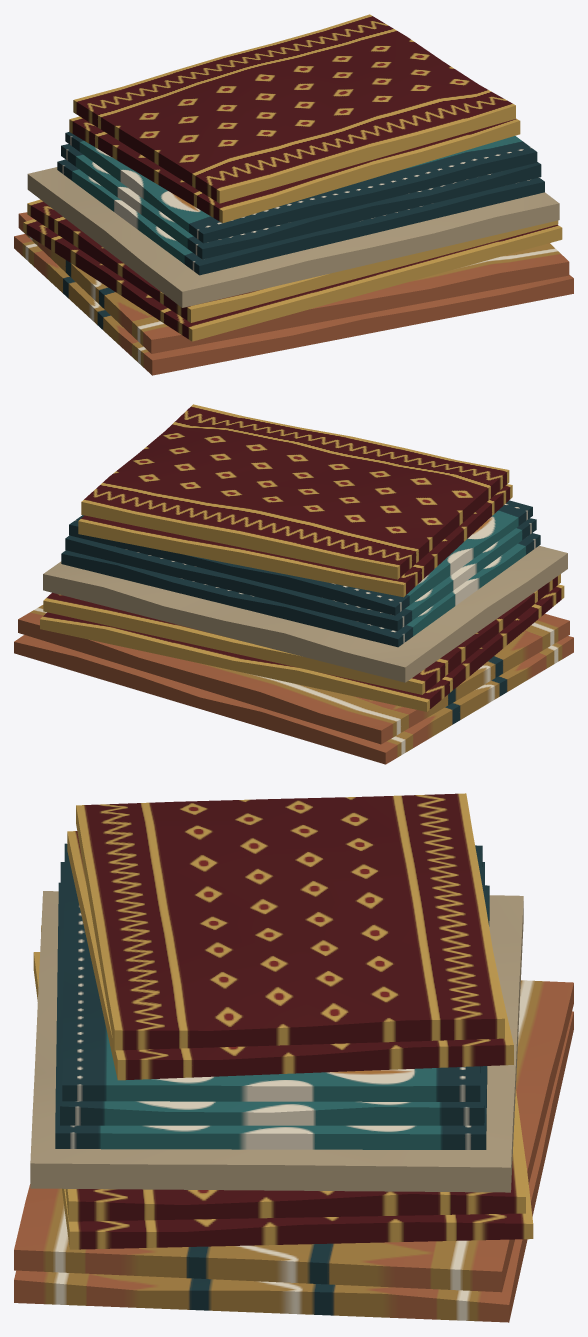
The model's file is prop-textile-stack.glb.
The picture shows the model from 3 angles, top to bottom: view 1: azimuth 30°, elevation 25°; view 2: azimuth 150°, elevation 25°; view 3: azimuth 270°, elevation 25°; orthographic projection. The views are drawn at different scales.
Parts seen in each view (by area): view 1: piece_TextileRed, piece_TextileTeal, piece_TextileOchre, piece_Linen; view 2: piece_TextileRed, piece_TextileOchre, piece_TextileTeal, piece_Linen; view 3: piece_TextileRed, piece_TextileOchre, piece_TextileTeal, piece_Linen.
Boxes of the visible parts, <box> form: piece_TextileRed: <box>23,14,562,341</box>; piece_TextileTeal: <box>57,132,544,275</box>; piece_TextileOchre: <box>14,212,573,375</box>; piece_Linen: <box>27,167,559,307</box>; piece_TextileRed: <box>40,404,564,711</box>; piece_TextileOchre: <box>14,605,573,764</box>; piece_TextileTeal: <box>61,500,540,647</box>; piece_Linen: <box>43,545,567,682</box>; piece_TextileRed: <box>33,793,533,1249</box>; piece_TextileOchre: <box>14,980,573,1322</box>; piece_TextileTeal: <box>55,843,489,1149</box>; piece_Linen: <box>30,891,523,1192</box>.
Bounding box in the file's own units: 0.4461 × 0.1759 × 0.3378.
Materials: 4 (3 with a texture image).
